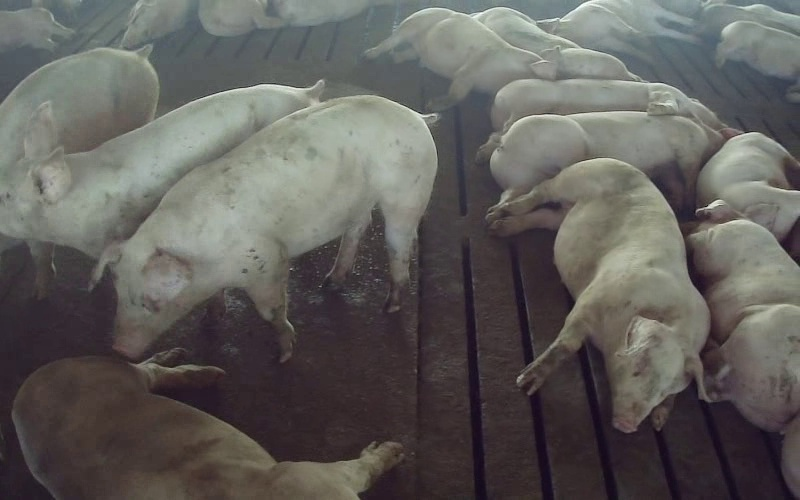pig: (486, 159, 708, 431), (13, 349, 403, 499), (0, 82, 323, 257), (686, 201, 799, 497), (476, 79, 726, 160), (365, 8, 555, 109), (472, 7, 640, 80), (696, 129, 799, 241), (538, 0, 699, 60)
